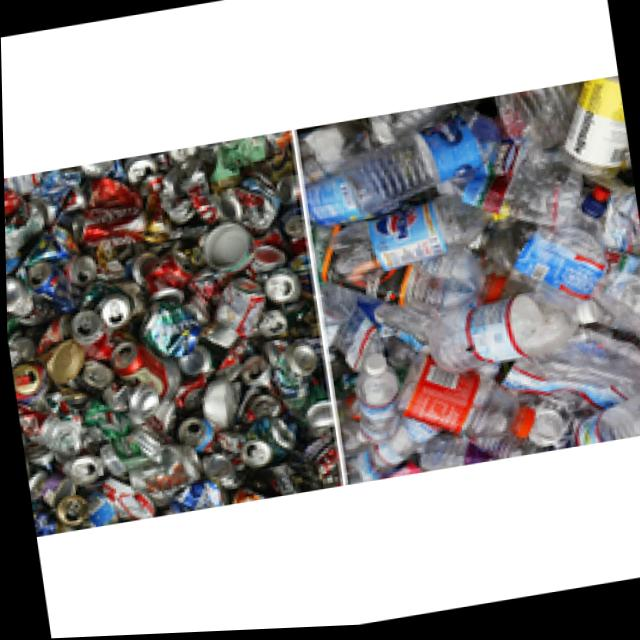aluminum_soda_cans: (194, 274, 269, 359), (108, 336, 182, 407), (66, 200, 149, 253), (131, 303, 204, 363), (145, 252, 196, 312), (26, 259, 73, 304), (170, 409, 213, 456), (60, 309, 103, 353), (62, 451, 106, 489), (261, 269, 304, 307), (95, 289, 132, 330), (52, 489, 90, 528), (236, 437, 274, 472), (10, 362, 46, 397), (125, 154, 157, 187)
plastic_soda_bottles: (390, 347, 536, 464)
plastic_water_bottles: (423, 284, 606, 385), (335, 109, 505, 215), (325, 186, 495, 290), (344, 350, 403, 449), (569, 392, 640, 458)
